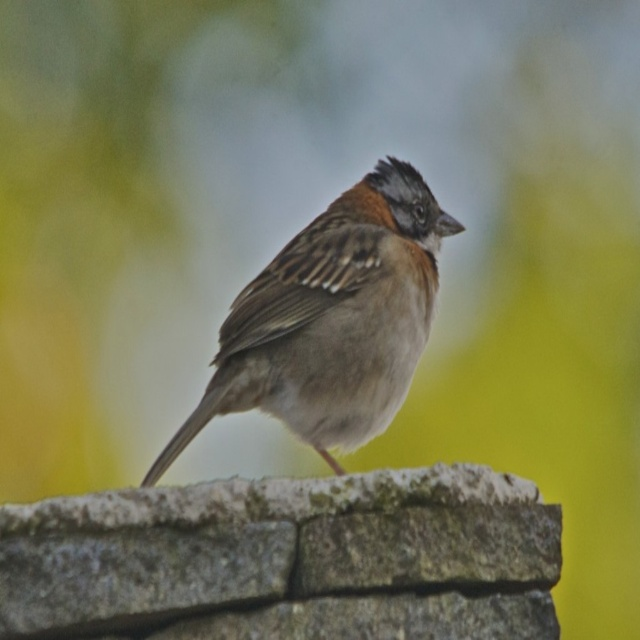Sparrow: (142, 151, 468, 480)
